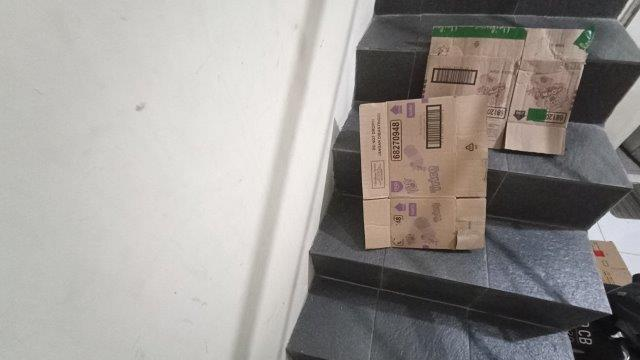kardus: (425, 27, 590, 155), (360, 97, 486, 249), (590, 242, 631, 284)
